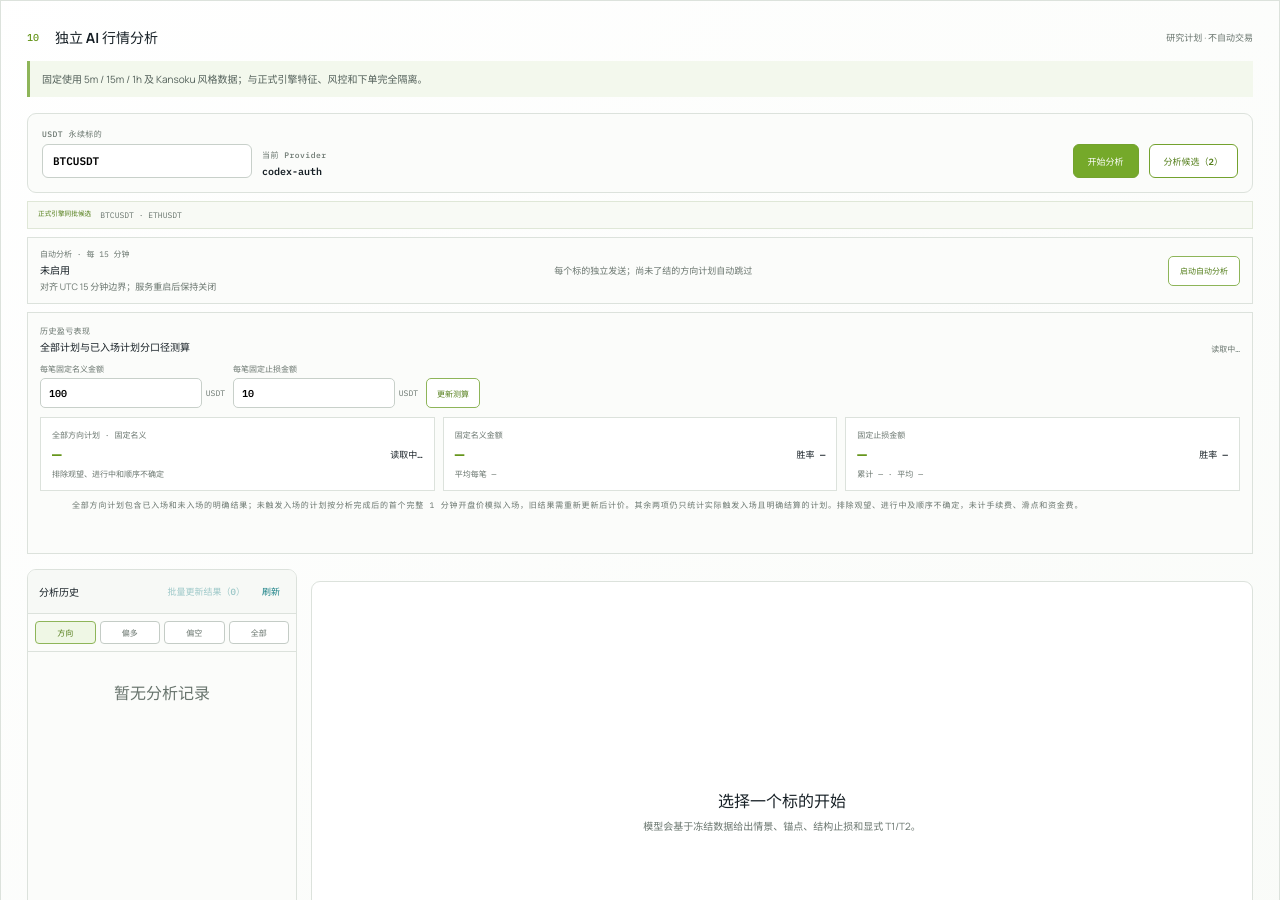
Test: MarketAnalysisPanel › enables the 15-minute automatic analysis schedule
The image size is (1280, 900).
Click the button "启动自动分析".
click(1204, 270)  # box [1168,256,1240,286]
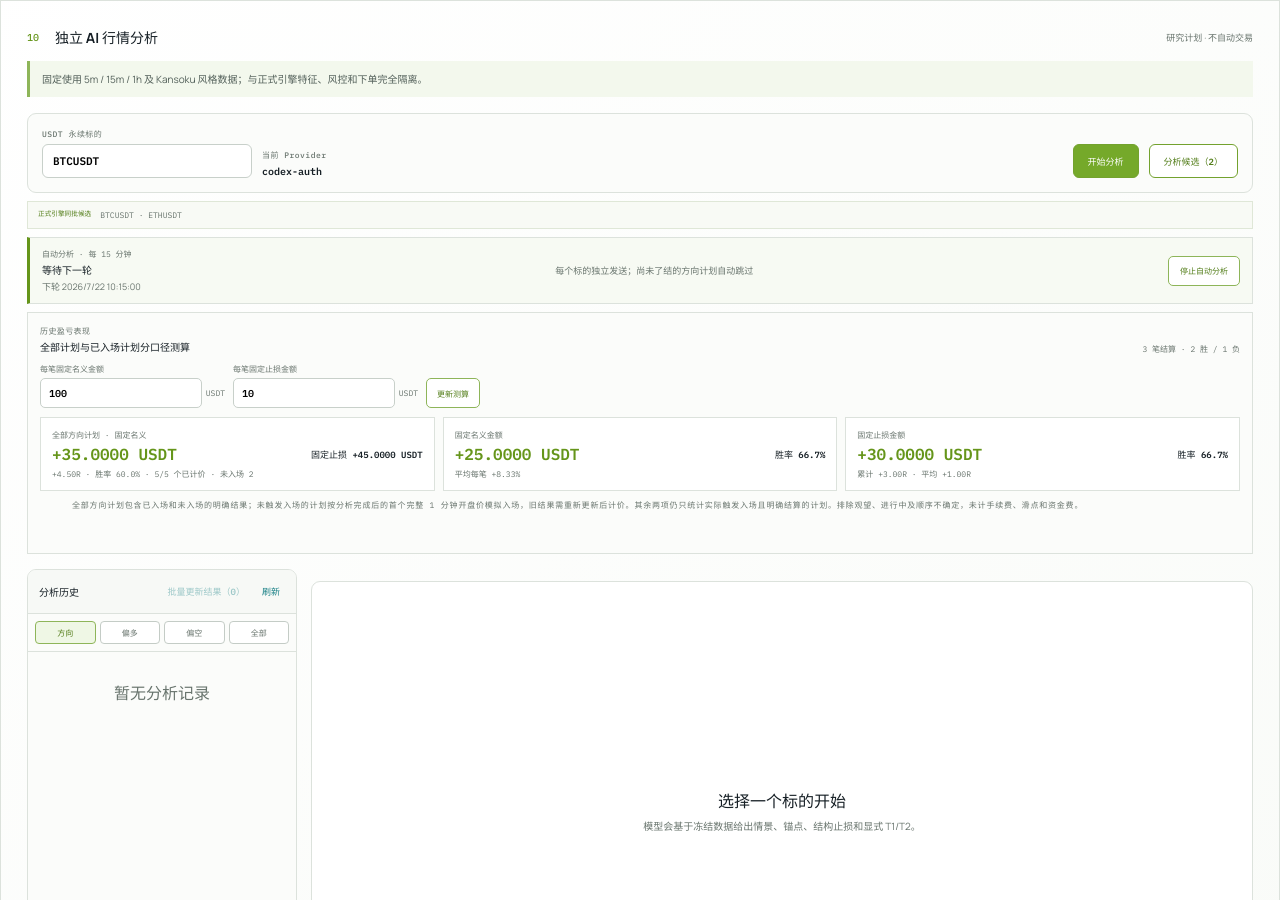
Now the text "等待下一轮" is shown, box [42,263,92,277]
Now the text "下轮 2026/7/22 10:15:00" is shown, box [42,280,141,293]
Now the button "停止自动分析" is shown, box [1168,256,1240,286]
